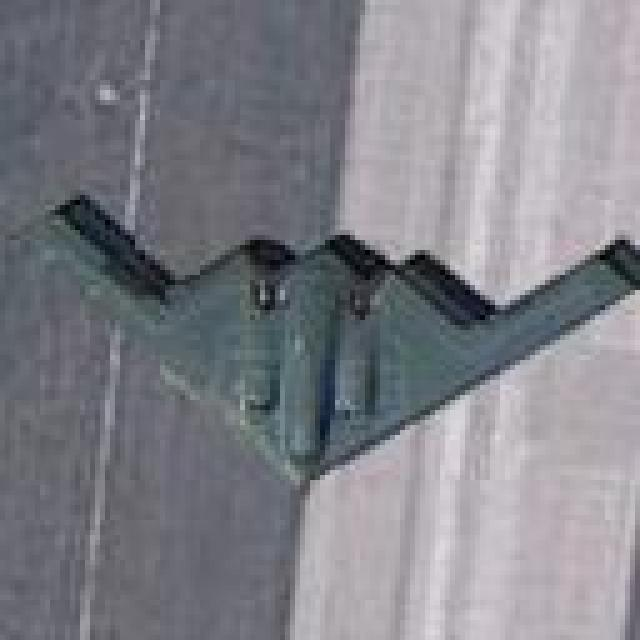B-2_TopDown: (40, 180, 635, 495)
